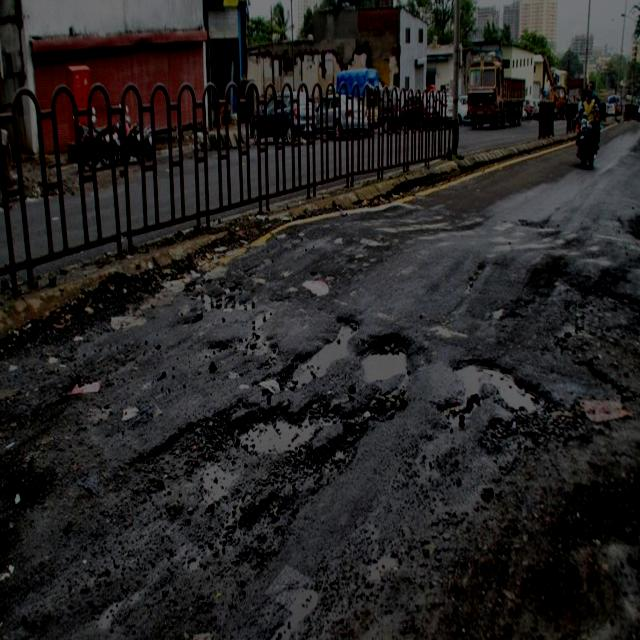Pothole: (165, 268, 564, 567)
